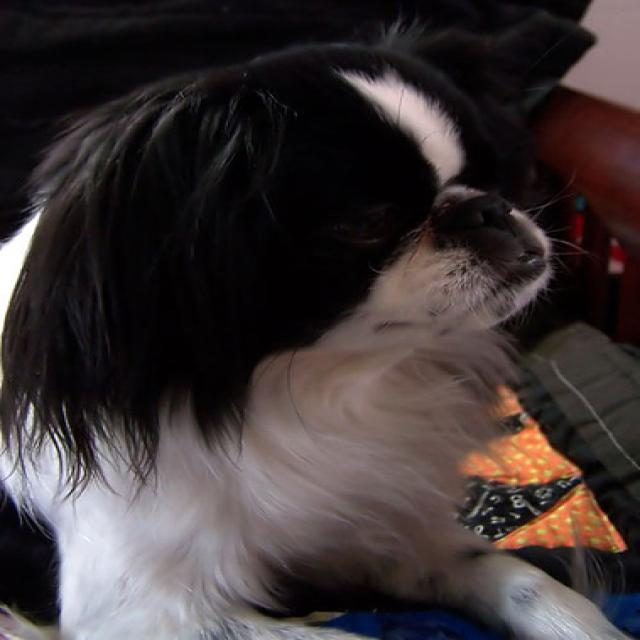dog-japanese_chin: (2, 40, 637, 637)
